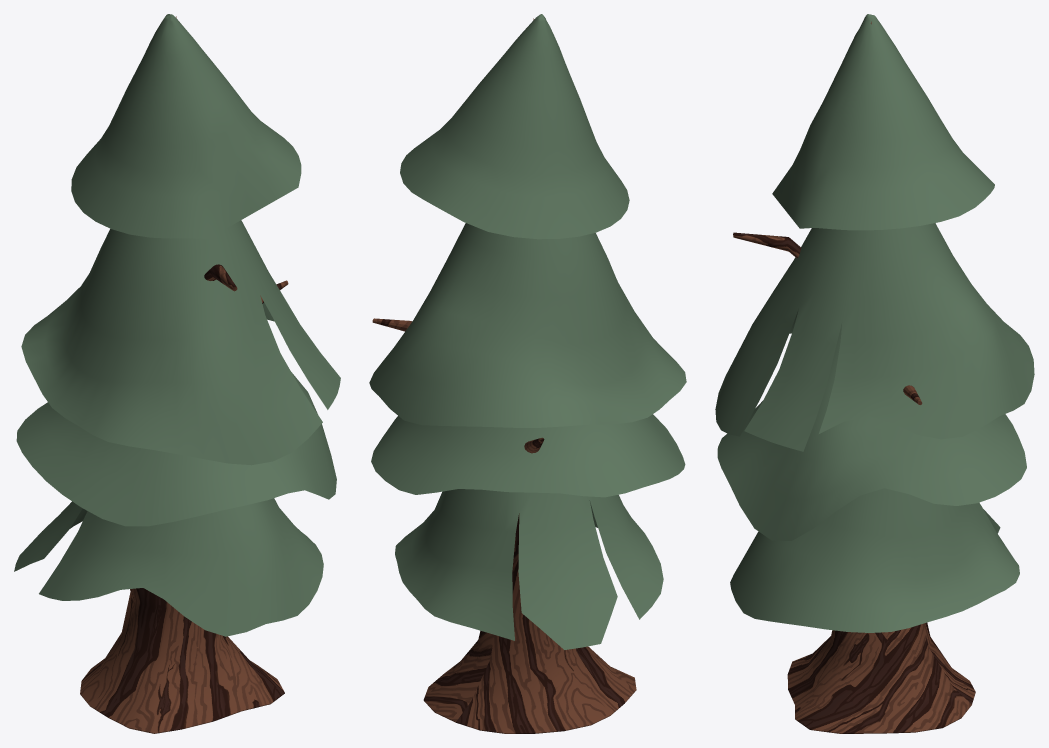
The model's file is Tree 2.fbx.
The picture shows the model from 3 angles, left to right: view 1: azimuth 30°, elevation 25°; view 2: azimuth 150°, elevation 25°; view 3: azimuth 270°, elevation 25°; orthographic projection.
Parts seen in each view (by area): view 1: Pines_3; view 2: Pines_3; view 3: Pines_3.
Part boxes in pixels (bbox=[...]): Pines_3: bbox=[14, 14, 340, 733]; Pines_3: bbox=[369, 14, 686, 733]; Pines_3: bbox=[715, 14, 1034, 733].
Size of the model in its own units: 7.5 by 18.01 by 7.71.
